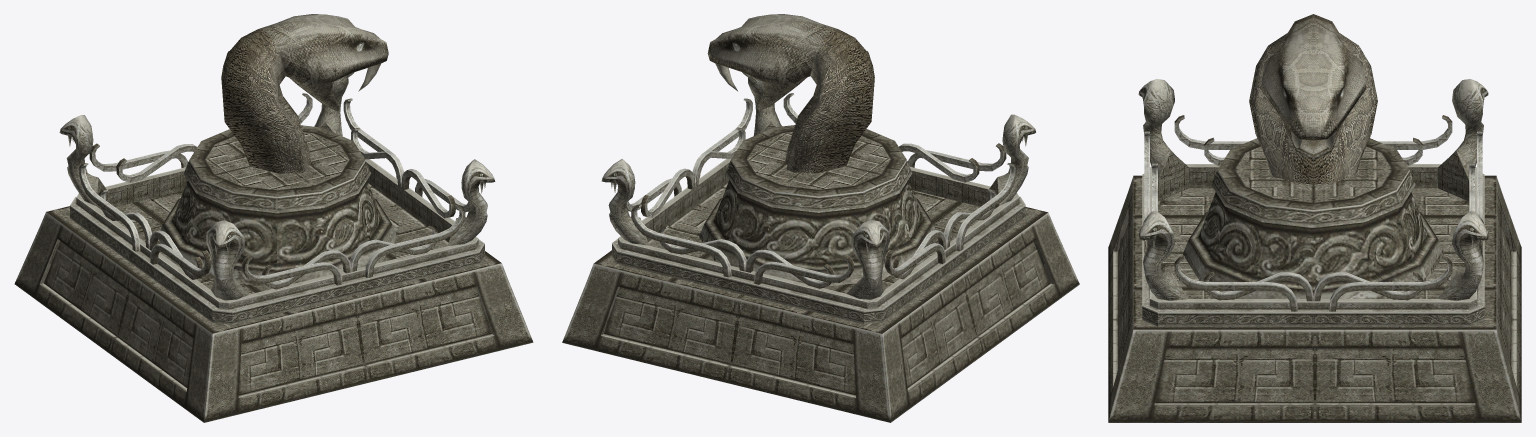
File: gls_a_snakestatue_02.fbx
3 views of the same model, side by side, from view 1: azimuth 30°, elevation 25°; view 2: azimuth 150°, elevation 25°; view 3: azimuth 270°, elevation 25° (orthographic). The views are drawn at different scales.
Parts seen in each view (by area): view 1: gls_A_SnakeStatue_02; view 2: gls_A_SnakeStatue_02; view 3: gls_A_SnakeStatue_02.
Part boxes in pixels (bbox=[...]): gls_A_SnakeStatue_02: bbox=[14, 14, 533, 422]; gls_A_SnakeStatue_02: bbox=[562, 14, 1079, 422]; gls_A_SnakeStatue_02: bbox=[1108, 14, 1521, 422].
Size of the model in its own units: 6.39 by 5.33 by 6.37.
